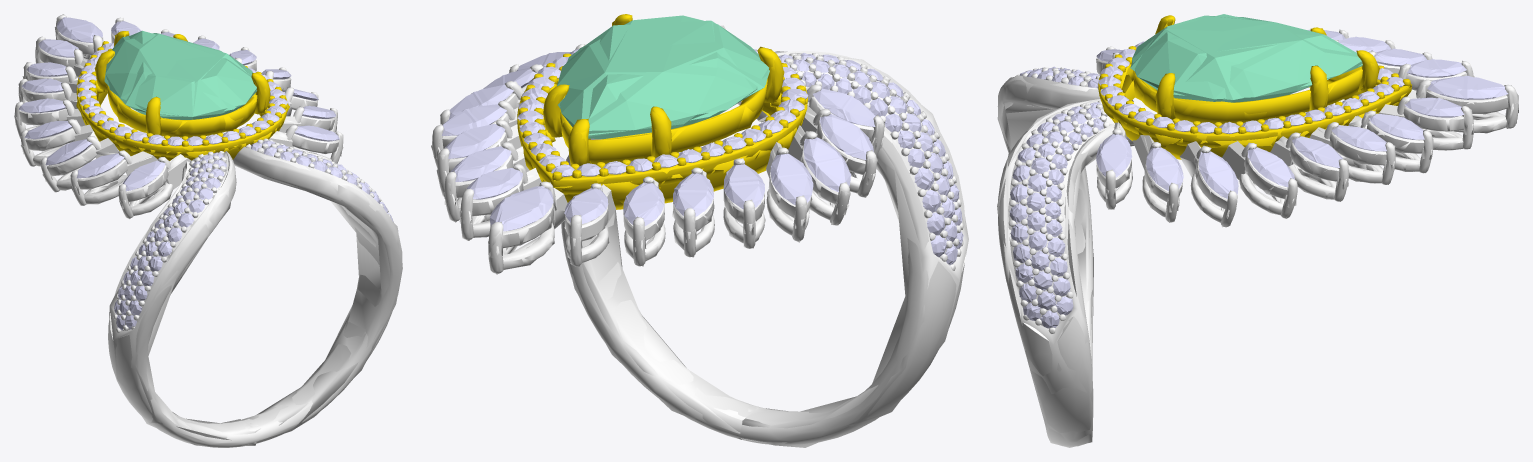
The model's file is DLR-D000733994.glb.
The picture shows the model from 3 angles, left to right: view 1: azimuth 30°, elevation 25°; view 2: azimuth 150°, elevation 25°; view 3: azimuth 270°, elevation 25°; orthographic projection. The views are drawn at different scales.
Visible parts, largest first — view 1: highPolyMesh, lowPolyMesh; view 2: highPolyMesh, lowPolyMesh; view 3: highPolyMesh, lowPolyMesh.
Boxes of the visible parts, x1,y1,x2,y2 form: highPolyMesh: (14, 15, 402, 447); lowPolyMesh: (14, 14, 402, 445); highPolyMesh: (432, 14, 965, 445); lowPolyMesh: (431, 14, 968, 447); highPolyMesh: (997, 15, 1518, 446); lowPolyMesh: (997, 14, 1518, 447).
Bounding box in the file's own units: 0.0202 × 0.0228 × 0.0272.
